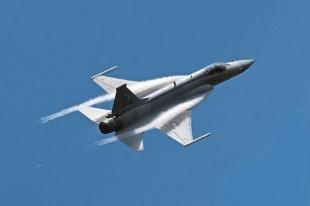airplane: (76, 57, 257, 153)
